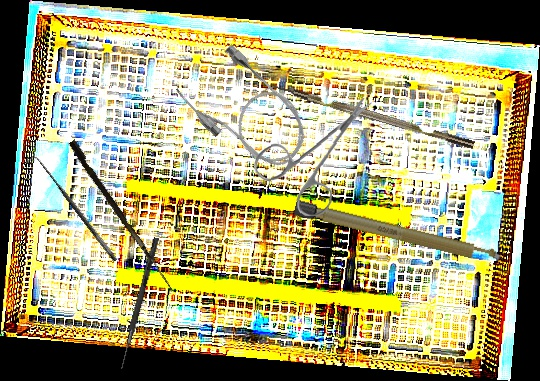Cannula: (170, 37, 322, 186)
Chopper: (260, 77, 475, 160)
Hook Surgical: (65, 139, 181, 292), (24, 150, 120, 269), (119, 236, 159, 371)
Iris Scissors: (252, 97, 376, 219)
Scalpel Handle: (293, 199, 504, 268)
